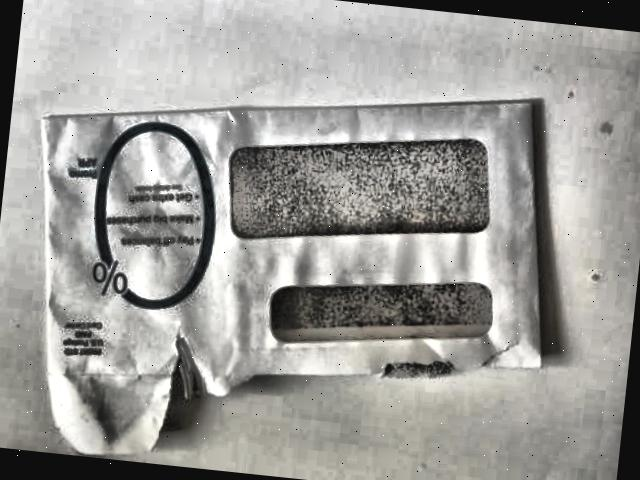Paper: (8, 41, 574, 480)
